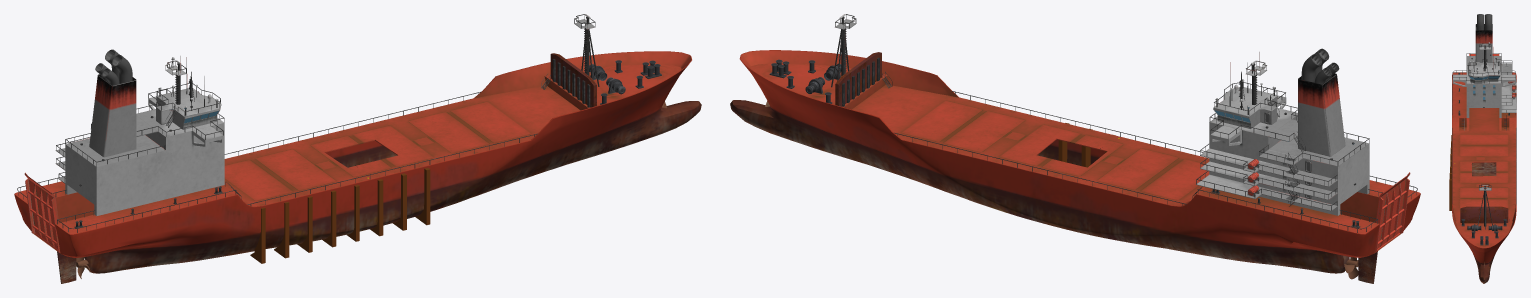
File: Spray painting ship.fbx
The picture shows the model from 3 angles, left to right: view 1: azimuth 30°, elevation 25°; view 2: azimuth 150°, elevation 25°; view 3: azimuth 270°, elevation 25°; orthographic projection. The views are drawn at different scales.
Parts seen in each view (by area): view 1: Overall ship bone, Cube.002; view 2: Overall ship bone, Cube.002; view 3: Overall ship bone, Cube.002.
Boxes of the visible parts, x1,y1,x2,y2 form: Overall ship bone: (14,14,701,283); Cube.002: (250,167,430,263); Overall ship bone: (730,14,1420,283); Cube.002: (1058,123,1115,167); Overall ship bone: (1452,14,1516,283); Cube.002: (1449,135,1451,210).
Size of the model in its own units: 4721 by 1477 by 744.
12 materials, 3 textured.
